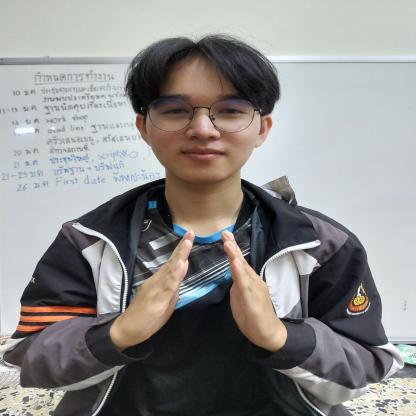Thank you: (124, 225, 288, 348)
